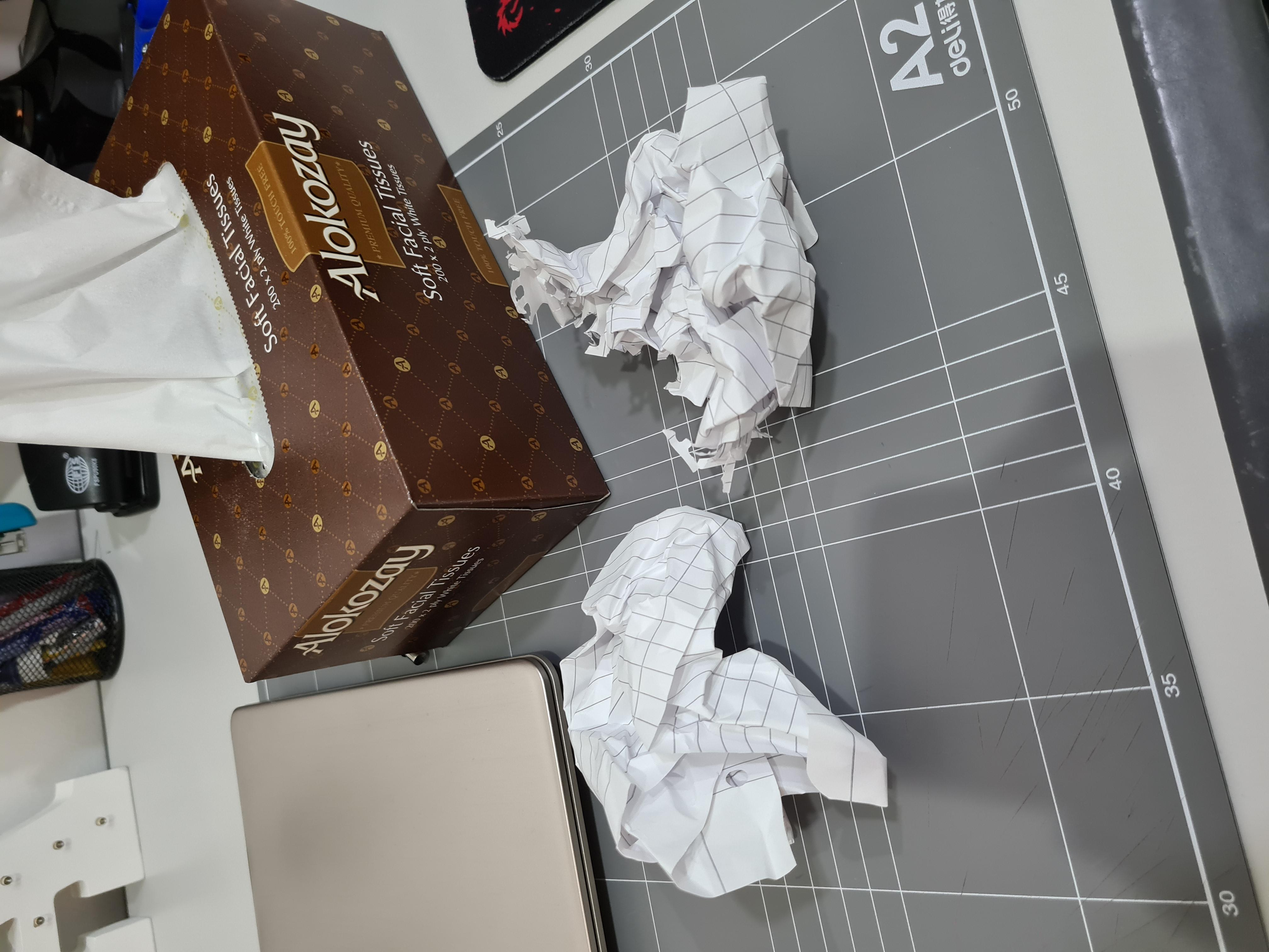paper: (643, 355, 1177, 643), (65, 411, 588, 657)
